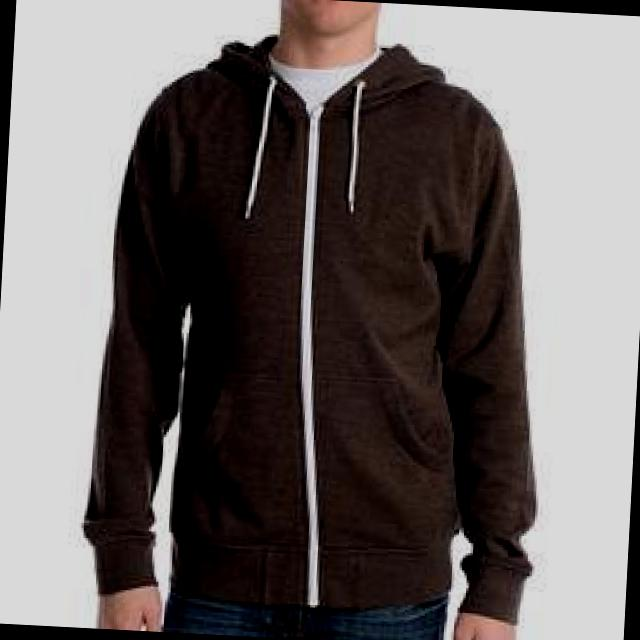sweater: (81, 29, 558, 624)
